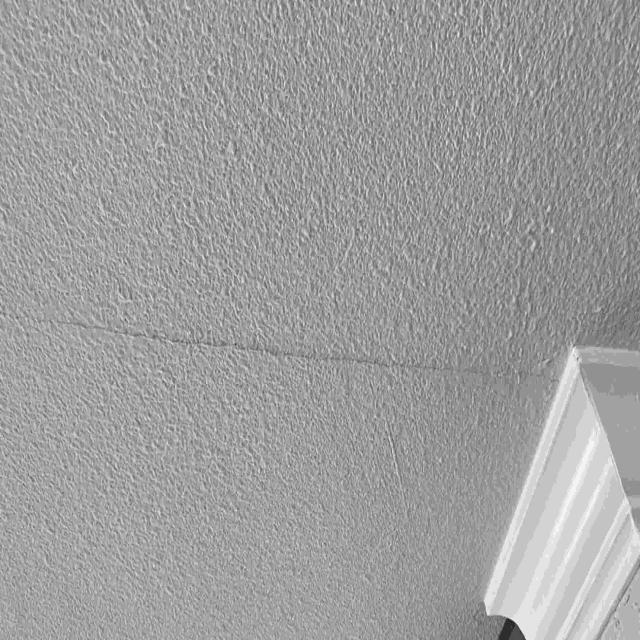leak: (2, 312, 560, 383)
